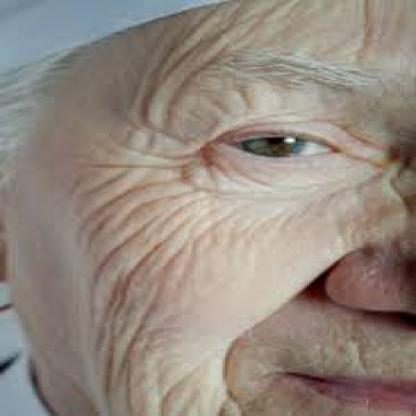puffyeye: (250, 85, 387, 133), (234, 160, 362, 189)
wrinkle: (59, 35, 212, 411)
